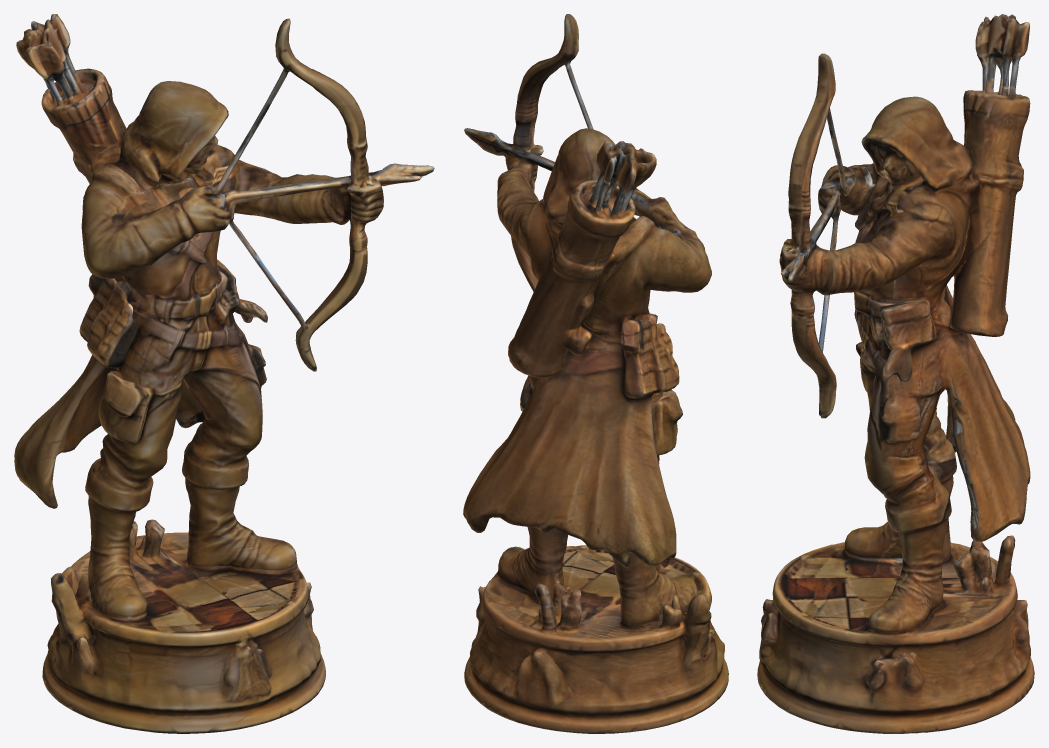
File: create_a_chess_piece__1105023019_refine.fbx
3 views of the same model, side by side, from view 1: azimuth 30°, elevation 25°; view 2: azimuth 150°, elevation 25°; view 3: azimuth 270°, elevation 25° (orthographic). The views are drawn at different scales.
Parts seen in each view (by area): view 1: file1; view 2: file1; view 3: file1.
Boxes of the visible parts, x1,y1,x2,y2 form: file1: [14, 14, 434, 733]; file1: [463, 14, 728, 733]; file1: [757, 14, 1034, 733].
Bounding box in the file's own units: 101 × 201 × 77.05.
1 material, 1 textured.
